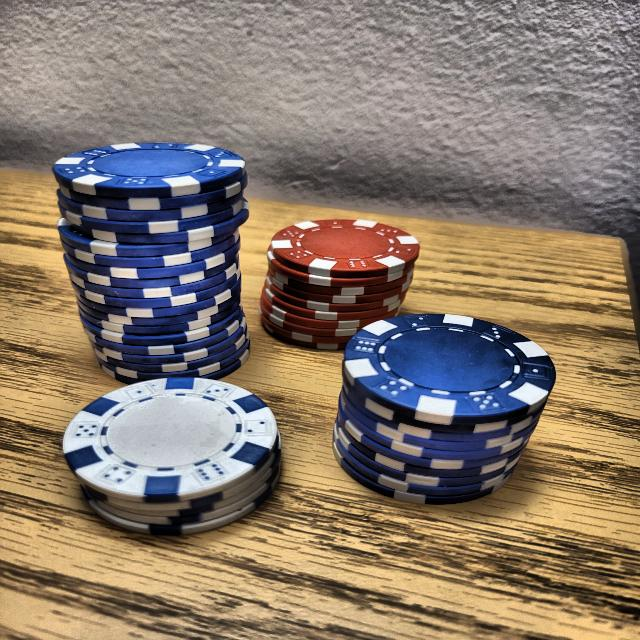Chip: (312, 286, 566, 522), (42, 133, 264, 391), (50, 352, 297, 562), (250, 197, 422, 365)
